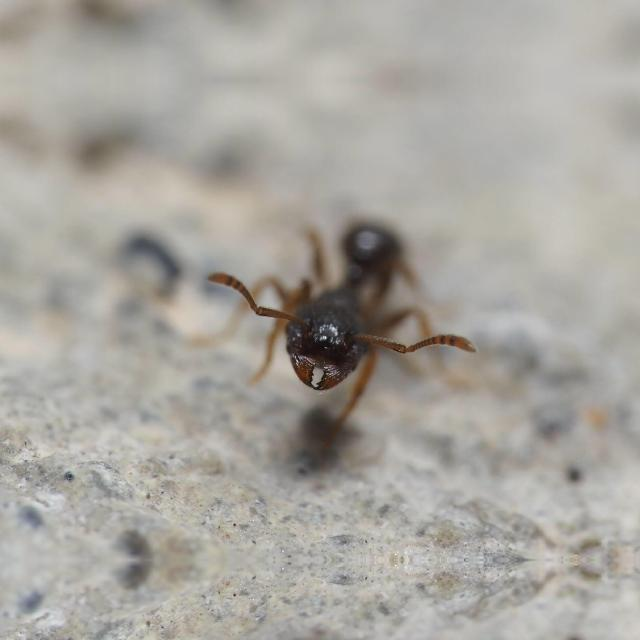Tetramorium: (212, 202, 474, 400)
